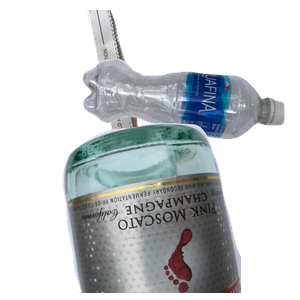glass: (60, 120, 300, 300)
paper: (85, 10, 224, 190)
plastic: (80, 56, 300, 187)
trash: (74, 167, 235, 300)
